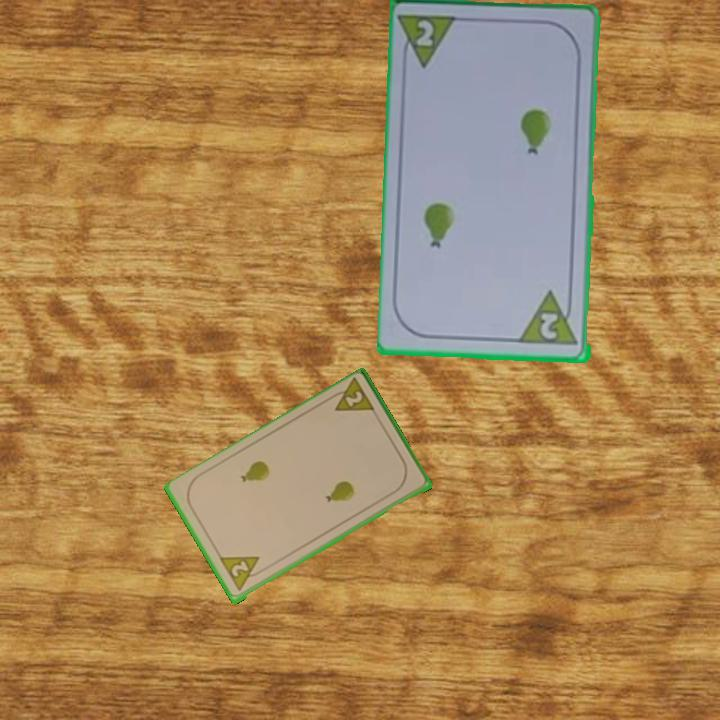2p: (518, 289, 581, 349), (325, 376, 378, 417), (217, 552, 268, 594), (413, 17, 437, 50)
